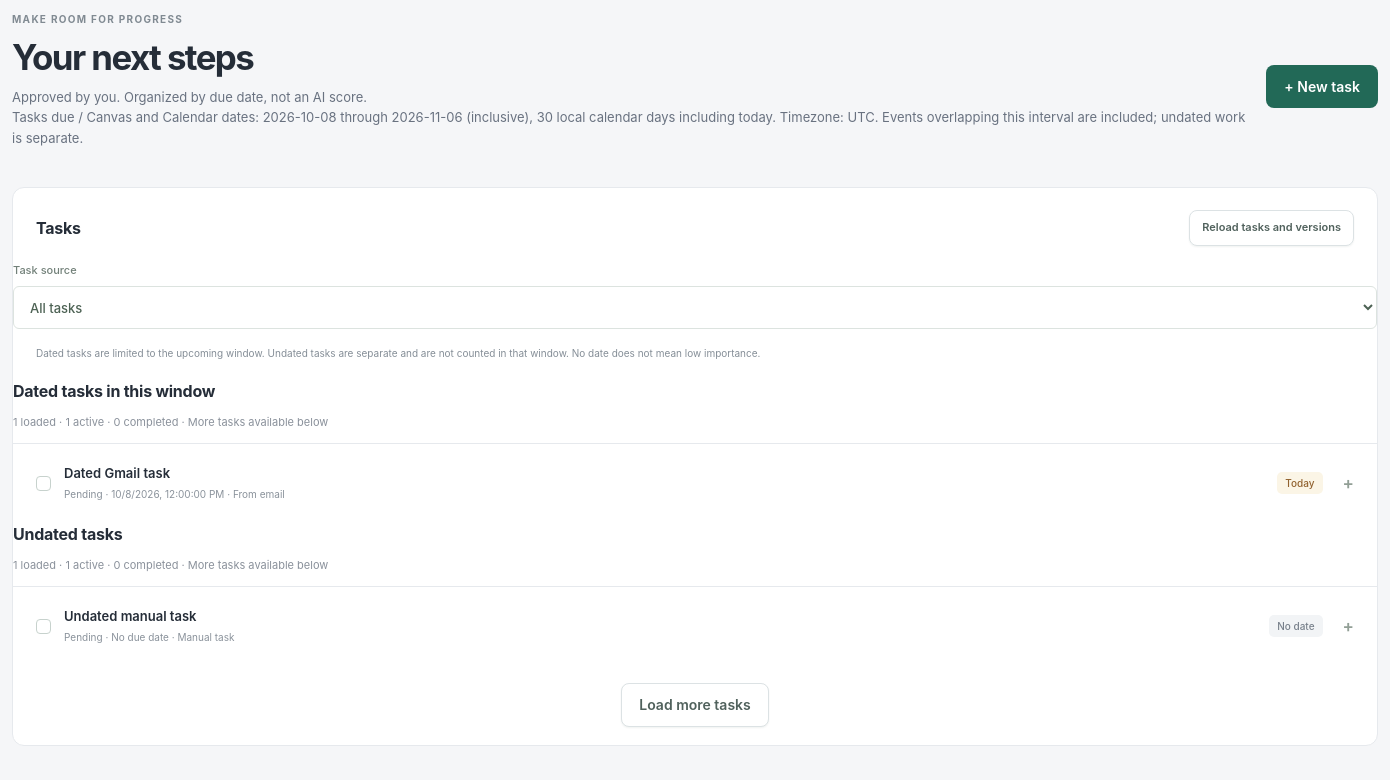
Task display window › sends four bounds and source before pagination, resets the cursor on source change, and separates undated counts
Expected: the button "Dated Gmail task" is shown, top-left (13, 444), bottom-right (1377, 522)
Expected: the text "1 loaded · 1 active · 0 completed · More tasks available below" below "Dated tasks in this window" is shown, top-left (13, 415), bottom-right (328, 429)
Click the button "Load more tasks". click: (695, 705)
box: top-left (621, 683), bottom-right (769, 727)
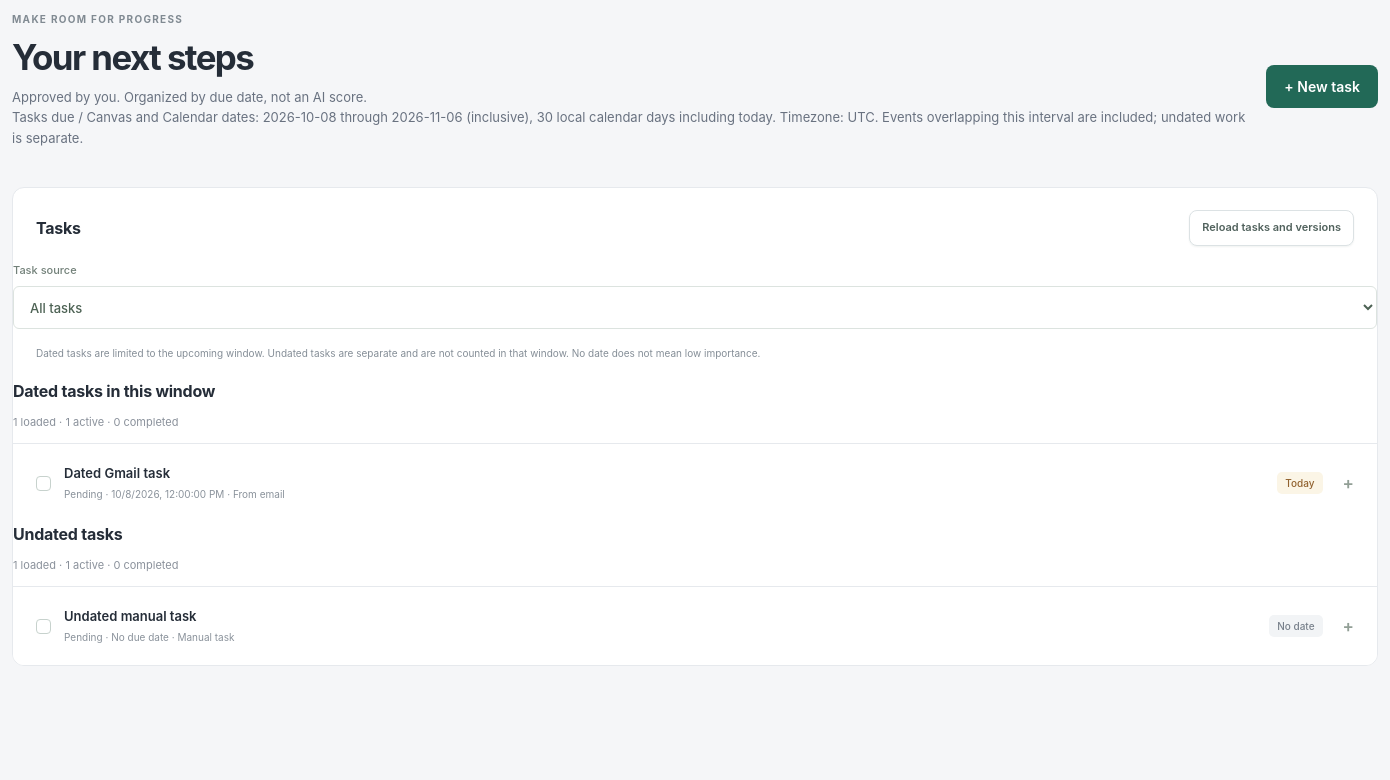
Select "Gmail tasks" in the dropdown labelled "Task source". click: (695, 308)
box: top-left (13, 286), bottom-right (1377, 329)
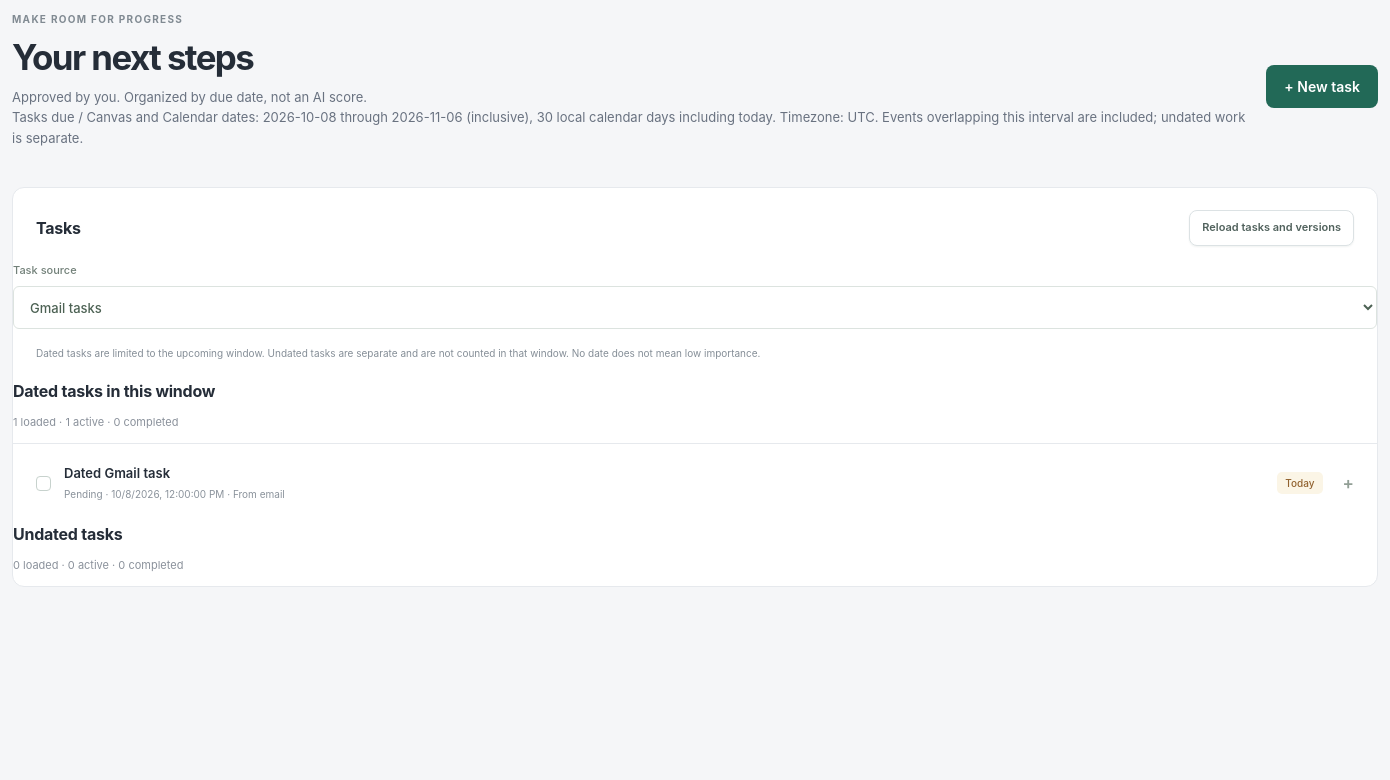
Expected: the button "Undated manual task" is gone
Select "Manual tasks" in the dropdown labelled "Task source". click: (695, 308)
box: top-left (13, 286), bottom-right (1377, 329)
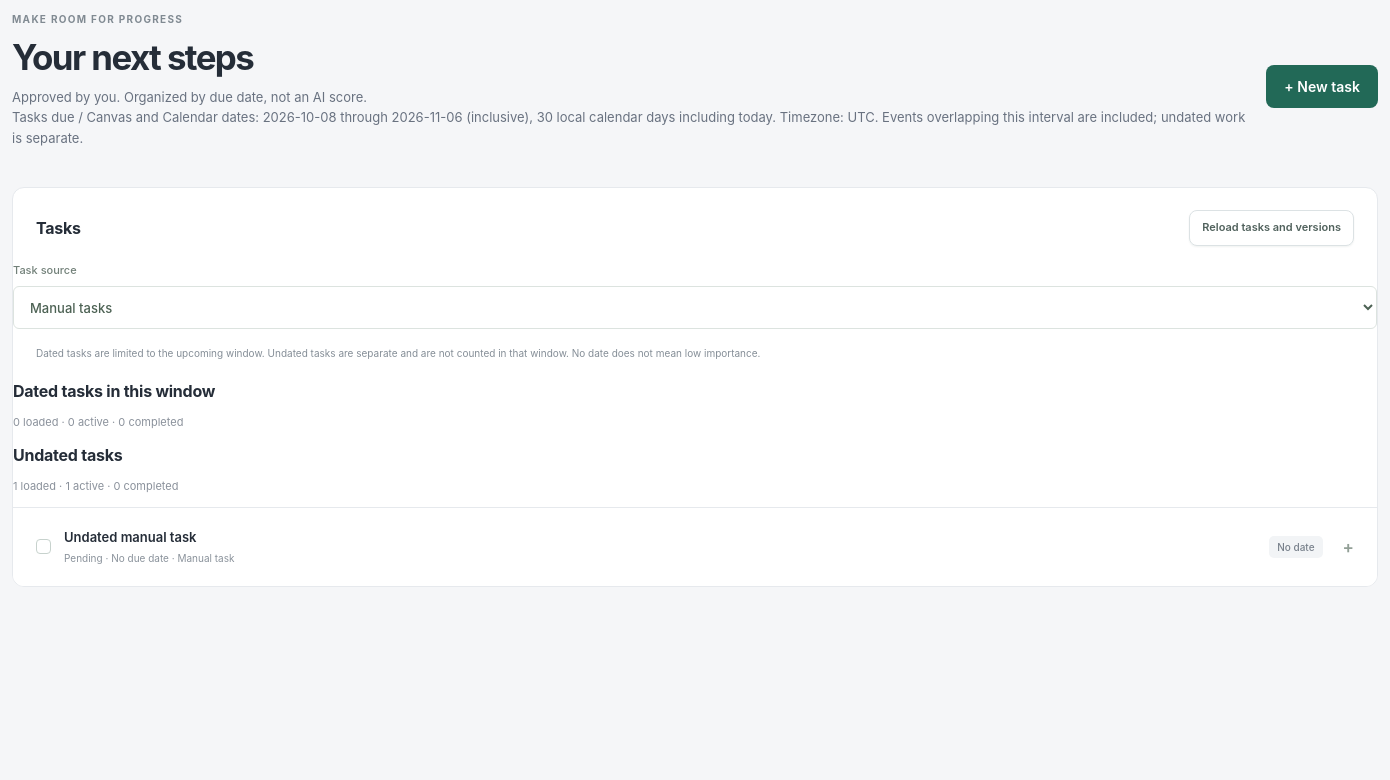
Expected: the button "Undated manual task" is shown, top-left (13, 508), bottom-right (1377, 586)
